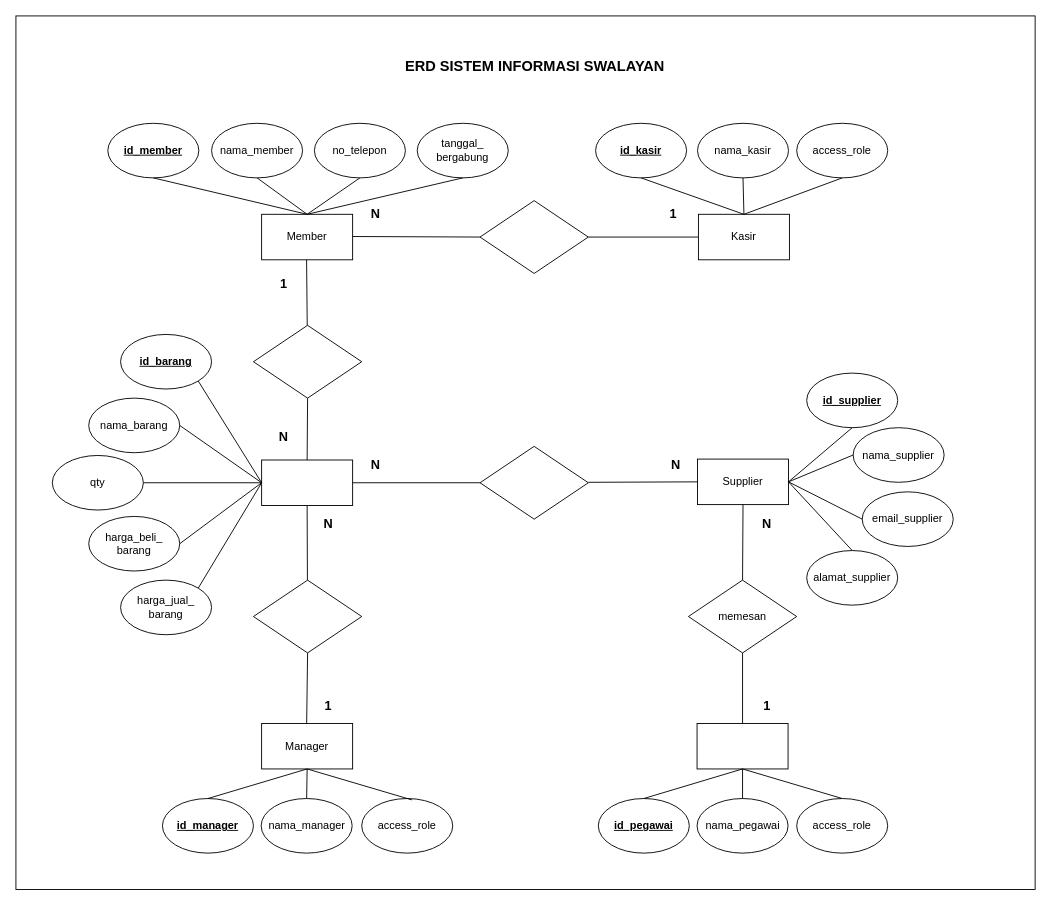
Image size: 1051x905. Some labels were removed from this diagram. Each missing label, with the centre of its shape:
"Barang" belongs at pixel 307 482.
"melayani" belongs at pixel 533 236.
"memasok" belongs at pixel 533 482.
"membeli" belongs at pixel 307 361.
"mengawasi" belongs at pixel 307 616.
"Pegawai Gudang" belongs at pixel 742 746.
